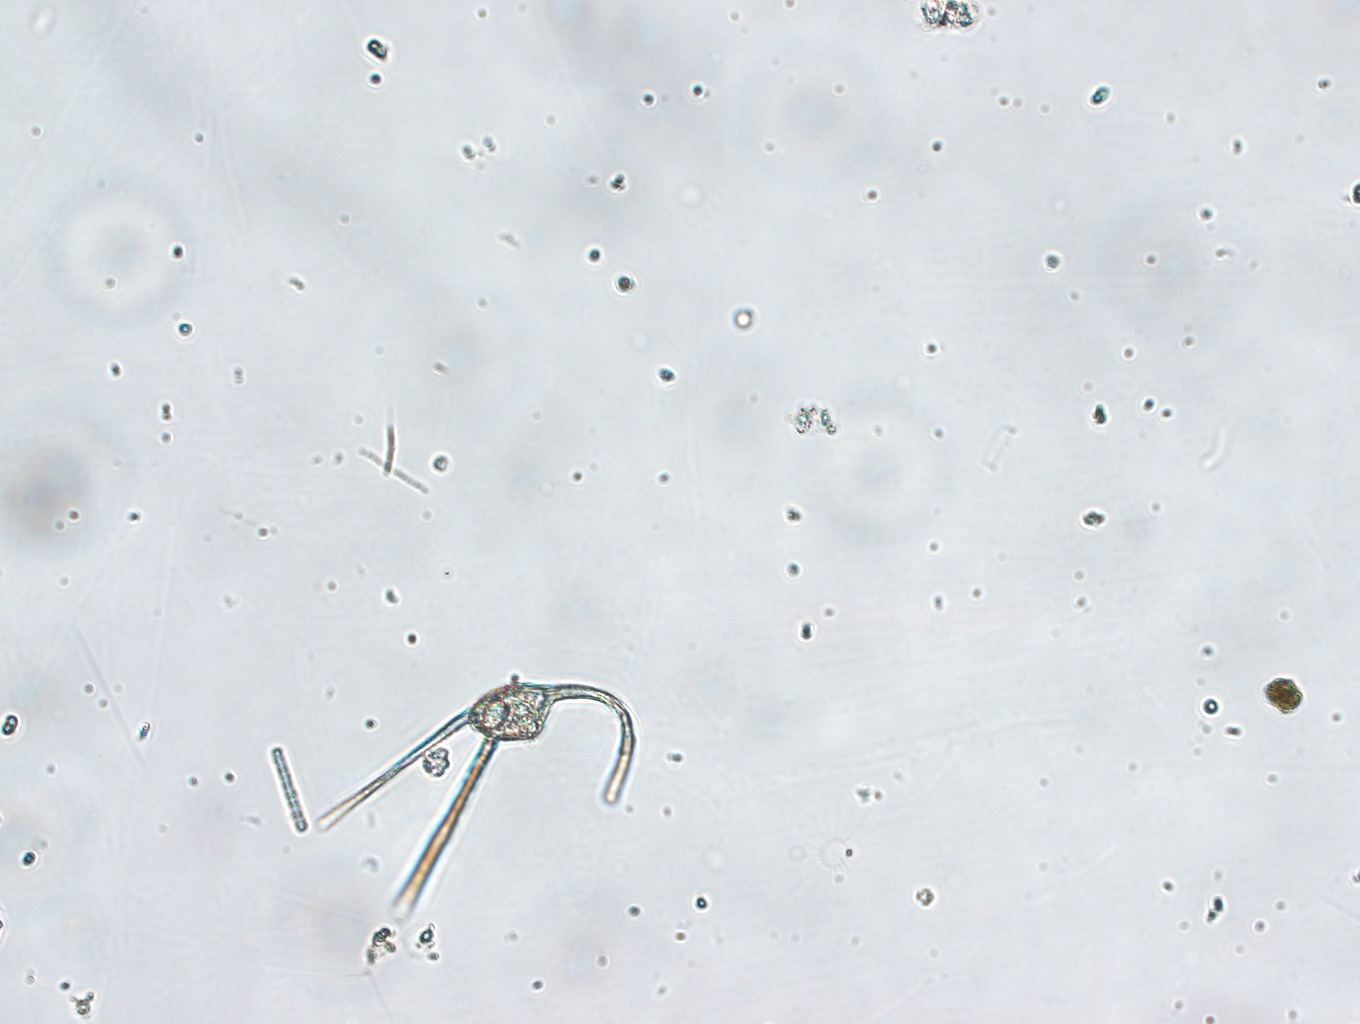ceratium trichoceros: (309, 662, 639, 922)
